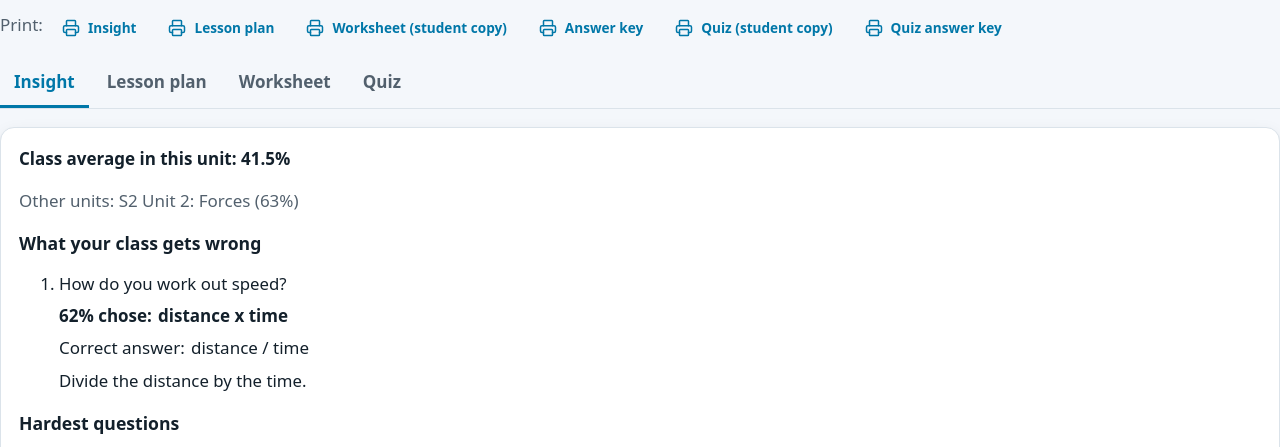
Test case: Teaching pack page › editing the objective saves after a pause
Step 1. Click the tab "Lesson plan" → [157, 83], box left=93, top=59, right=221, bottom=108
(page scrolled)
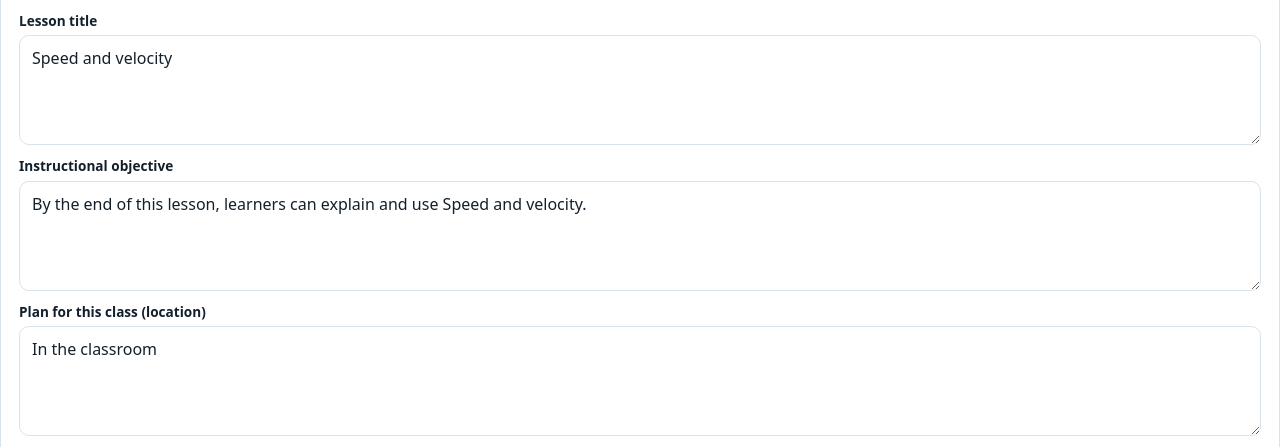
Step 2. Replace the text in the text box labelled "Instructional objective" with "Ne" → [640, 236], box left=19, top=180, right=1261, bottom=290
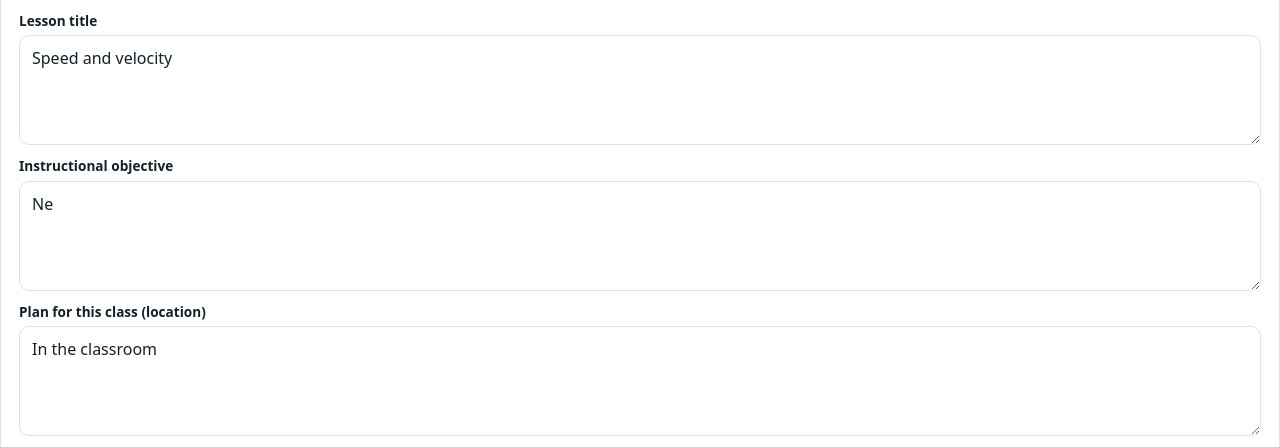
Step 3. Replace the text in the text box labelled "Instructional objective" with "New" → [640, 236], box left=19, top=180, right=1261, bottom=290
Wait 850 ms
(page scrolled)
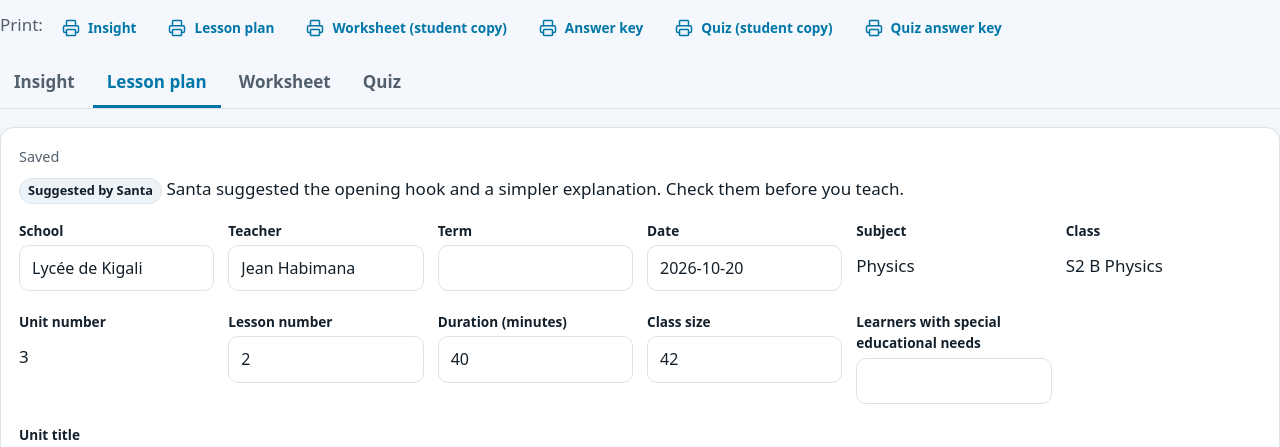
Result: the text "Saved" is shown at left=19, top=147, right=59, bottom=166
